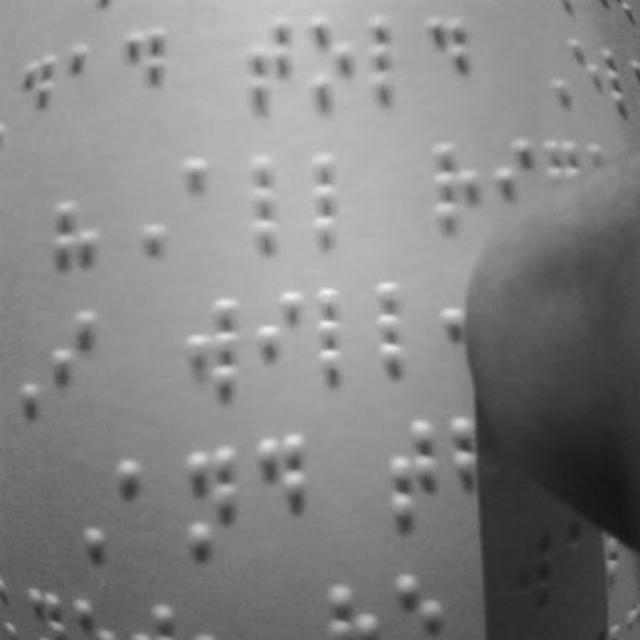braiile: (180, 436, 240, 564), (382, 418, 442, 534), (183, 294, 241, 410), (51, 304, 109, 418), (254, 429, 310, 545), (374, 279, 436, 383), (312, 286, 372, 390), (433, 138, 491, 245), (116, 450, 170, 560), (312, 152, 372, 246), (244, 15, 300, 115), (250, 294, 302, 401), (252, 154, 308, 252), (9, 47, 61, 151), (122, 24, 176, 124), (302, 13, 356, 111), (178, 154, 232, 250), (369, 15, 421, 109), (68, 38, 118, 134), (426, 13, 472, 108)
